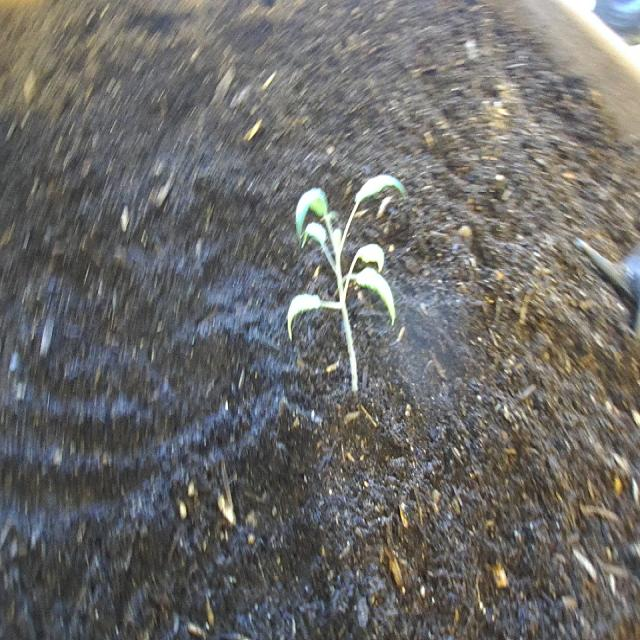Healthy: (281, 157, 413, 404)
